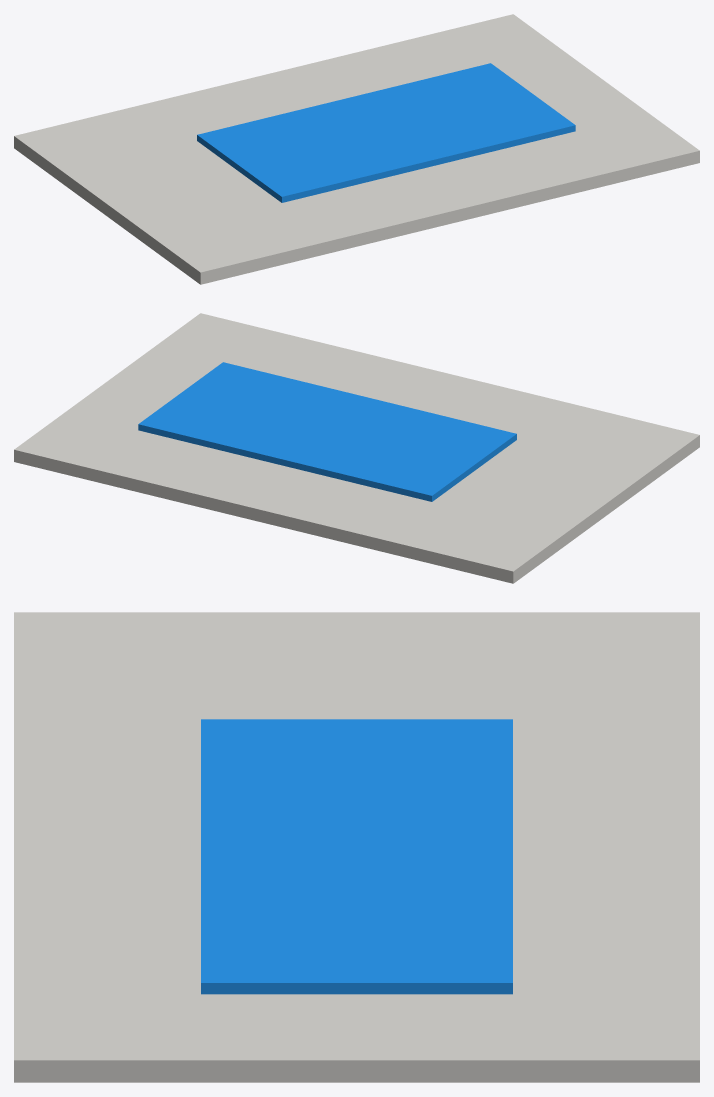
File: product-card.glb
The picture shows the model from 3 angles, top to bottom: view 1: azimuth 30°, elevation 25°; view 2: azimuth 150°, elevation 25°; view 3: azimuth 270°, elevation 25°; orthographic projection. The views are drawn at different scales.
Bounding box in the file's own units: 0.85 × 0.03 × 0.55.
